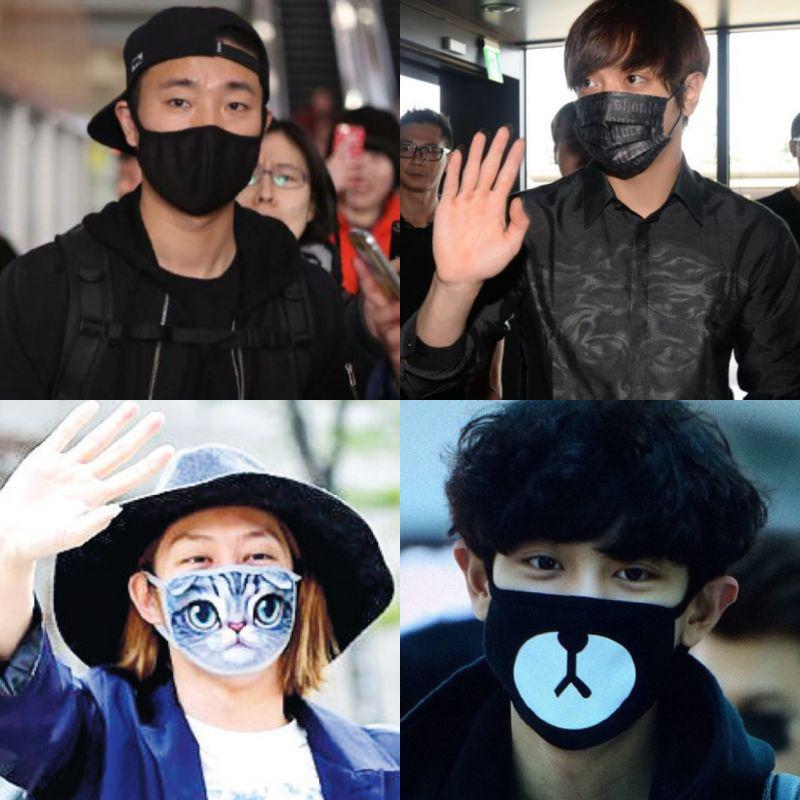NONE: (223, 143, 314, 247), (342, 147, 393, 209), (397, 133, 448, 189)
OK: (478, 520, 707, 749), (155, 524, 303, 672), (136, 68, 262, 212), (575, 59, 678, 175)
